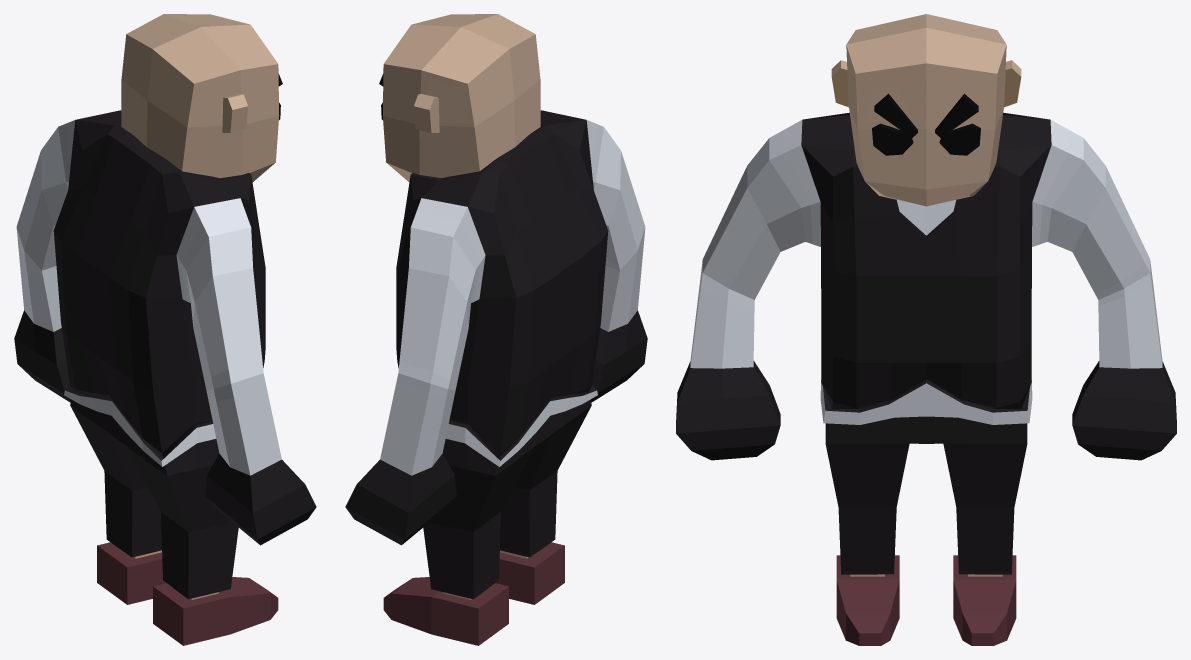
Rendered from Gangster.fbx.
3 renders of one model, left to right at view 1: azimuth 30°, elevation 25°; view 2: azimuth 150°, elevation 25°; view 3: azimuth 270°, elevation 25°, orthographic. The views are drawn at different scales.
Visible parts, largest first — view 1: Body; view 2: Body; view 3: Body.
Boxes of the visible parts, box(x1,y1,x2,y2) form: Body: box(14, 14, 316, 645); Body: box(345, 14, 647, 645); Body: box(676, 14, 1176, 645).
Size of the model in its own units: 350 by 139 by 461.
